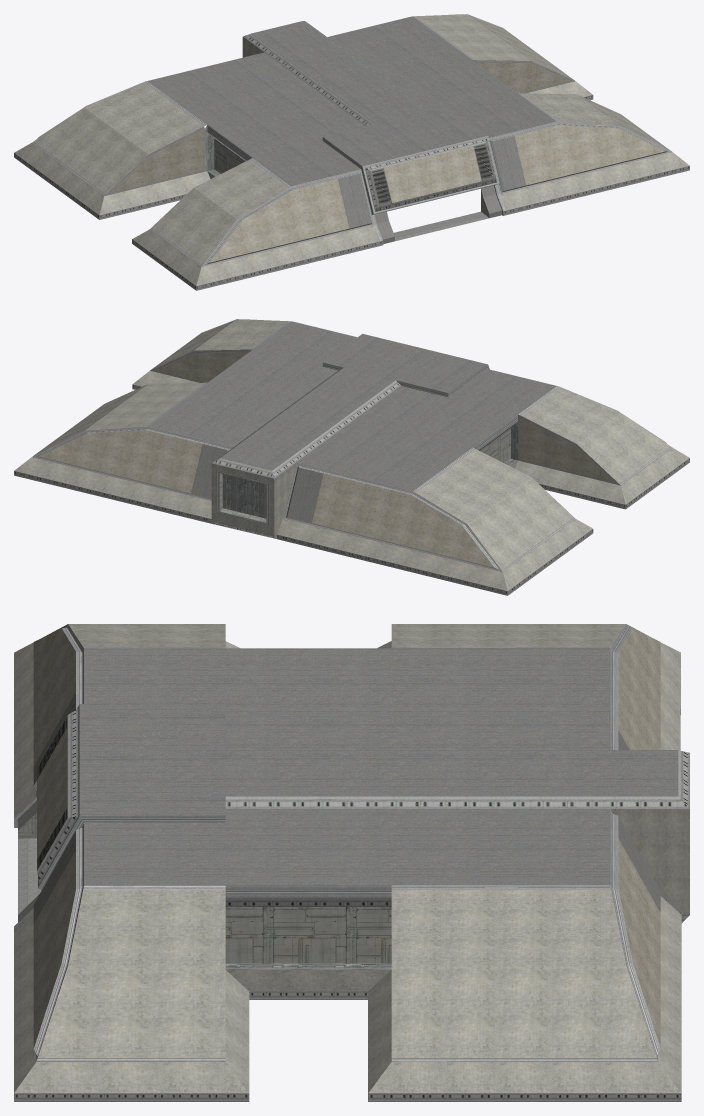
File: mun_all_cloning_s01_r0_mesh_l0.fbx
3 views of the same model, one above another, from view 1: azimuth 30°, elevation 25°; view 2: azimuth 150°, elevation 25°; view 3: azimuth 270°, elevation 25° (orthographic). The views are drawn at different scales.
Visible parts, largest first — view 1: mesh_node; view 2: mesh_node; view 3: mesh_node.
Part boxes in pixels (x1,y1,x2,y2): mesh_node: (14, 14, 689, 290); mesh_node: (14, 319, 689, 595); mesh_node: (14, 624, 689, 1101).
Size of the model in its own units: 62.92 by 8.14 by 40.77.
